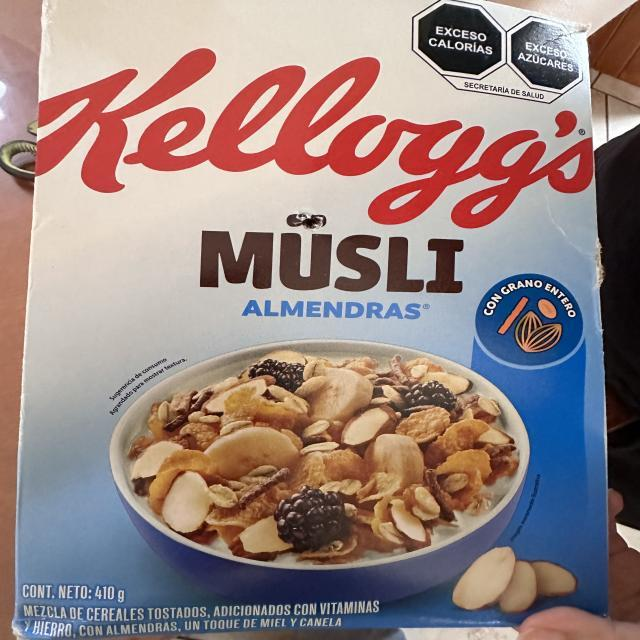hidden camera: (304, 218, 319, 229)
